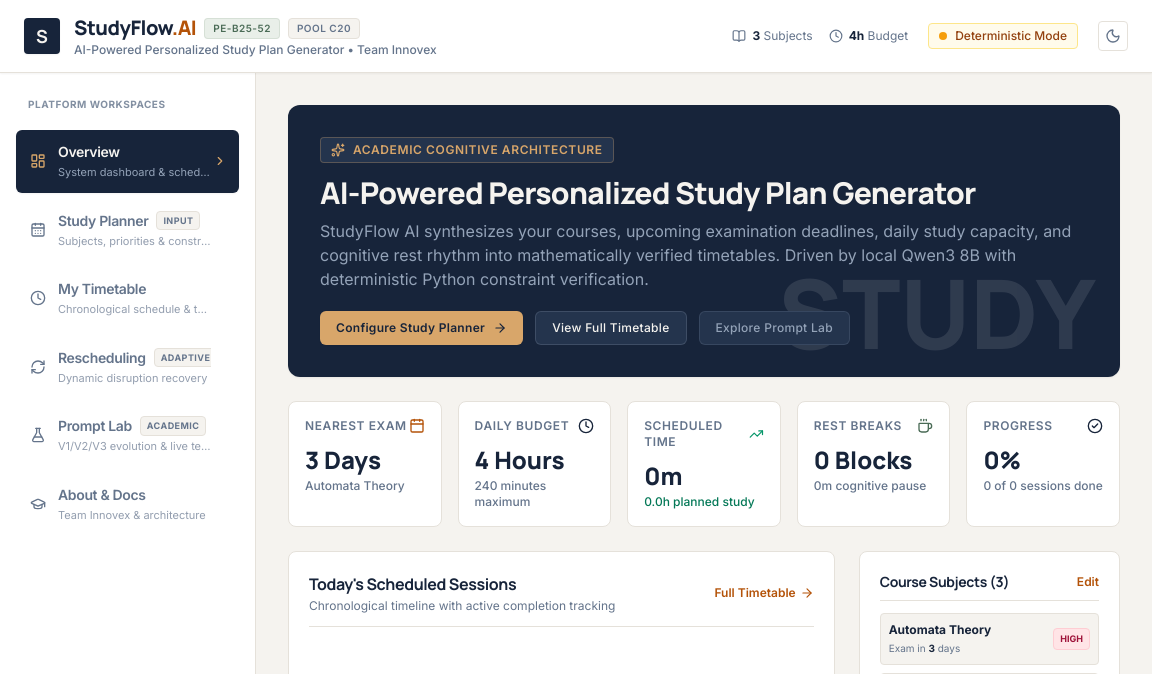
Test: StudyFlow AI Application Workspaces Navigation › switches to Study Planner workspace on navigation click
Click the text "Study Planner".
click(103, 220)  # box [58,210,148,230]
(page scrolled)
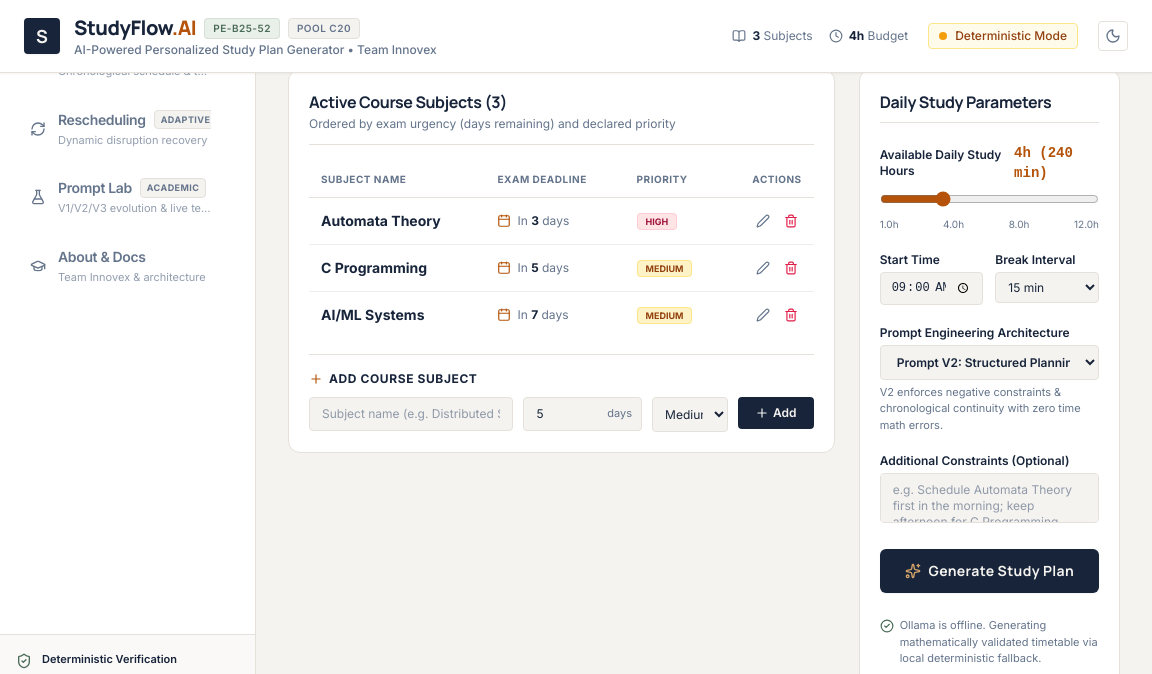
Expected: the text "Available Daily Study Hours" is shown, [880,147,1014,179]
Expected: the text "Generate Study Plan" is shown, [928,561,1074,581]
